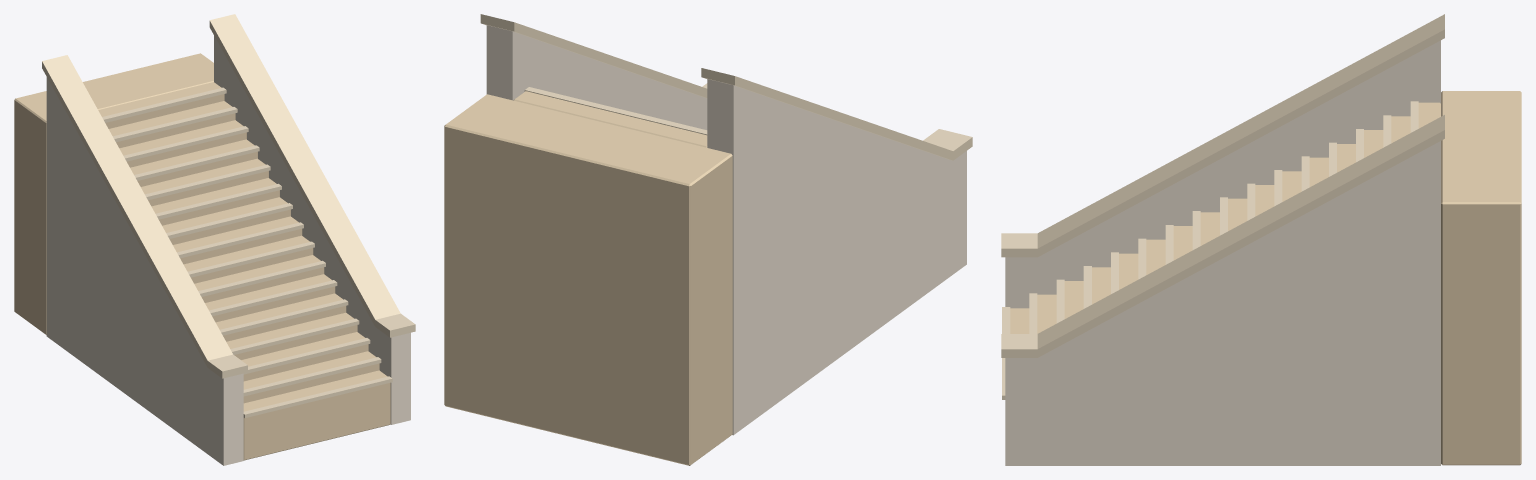
File: stairs.glb
3 views of the same model, side by side, from view 1: azimuth 30°, elevation 25°; view 2: azimuth 150°, elevation 25°; view 3: azimuth 270°, elevation 25° (orthographic). The views are drawn at different scales.
Visible parts, largest first — view 1: stairs; view 2: stairs; view 3: stairs.
Boxes of the visible parts, box(x1,y1,x2,y2) form: stairs: box(14, 14, 415, 465); stairs: box(444, 14, 972, 465); stairs: box(1001, 14, 1521, 465).
Bounding box in the file's own units: 3.4 × 4.62 × 6.45.
